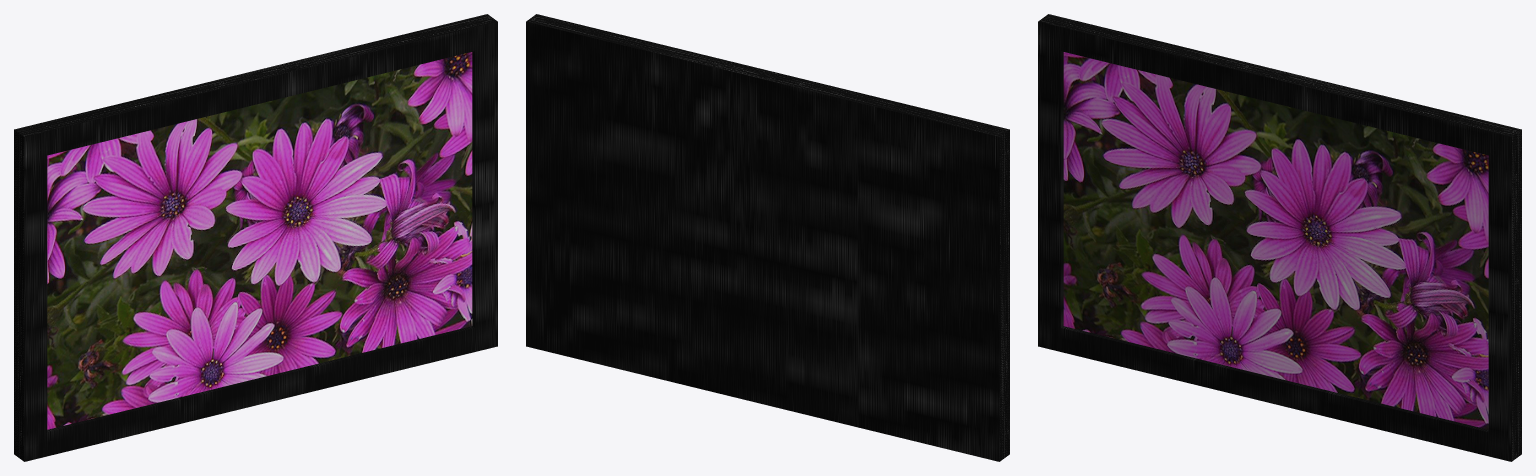
Rendered from picture_7.fbx.
The picture shows the model from 3 angles, left to right: view 1: azimuth 30°, elevation 25°; view 2: azimuth 150°, elevation 25°; view 3: azimuth 330°, elevation 25°; orthographic projection.
Visible parts, largest first — view 1: picture_7; view 2: picture_7; view 3: picture_7.
Part boxes in pixels (box(x1,y1,x2,y2)): picture_7: box(14, 14, 497, 461); picture_7: box(526, 14, 1009, 461); picture_7: box(1038, 14, 1521, 461).
Bounding box in the file's own units: 0.9241 × 0.6061 × 0.035.
